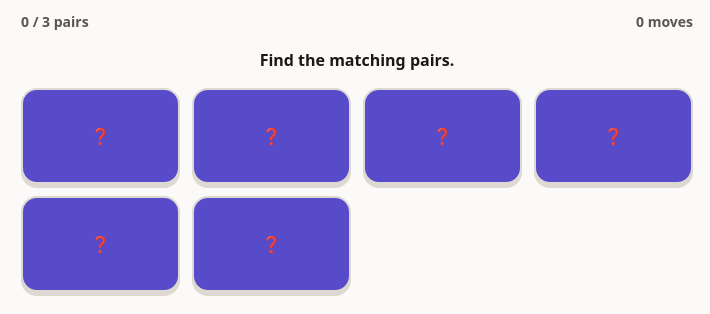
Scenario: Memory › flips cards face up and matches a pair
Click the button with test id "memory-card" at x=100, y=244, box [21,196,180,292]
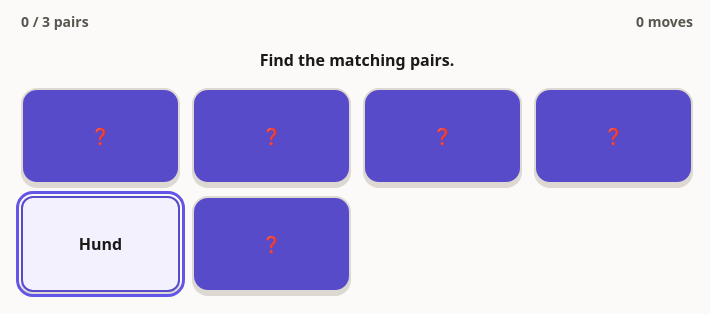
Click the button with test id "memory-card" at x=272, y=136, box [192,88,351,184]
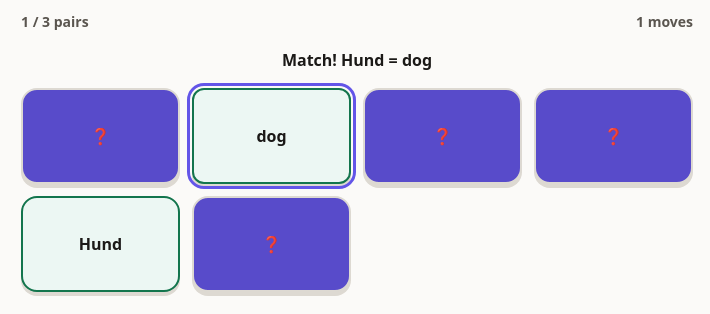
Result: the text with test id "pairs-found" shows "1 / 3" at [21,12,89,32]
Result: the text with test id "moves" reads "1 moves" at [636,12,693,32]
Result: the message reads "Match! Hund = dog" at [282,49,432,71]
